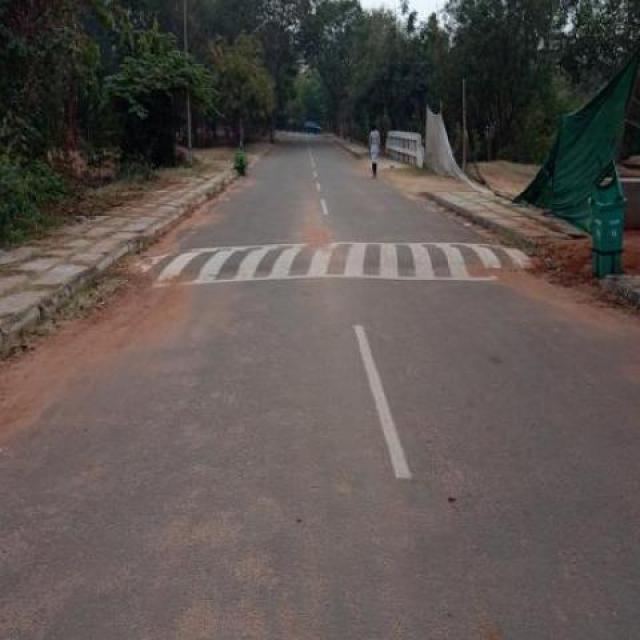Speed Bump: (134, 240, 537, 288)
